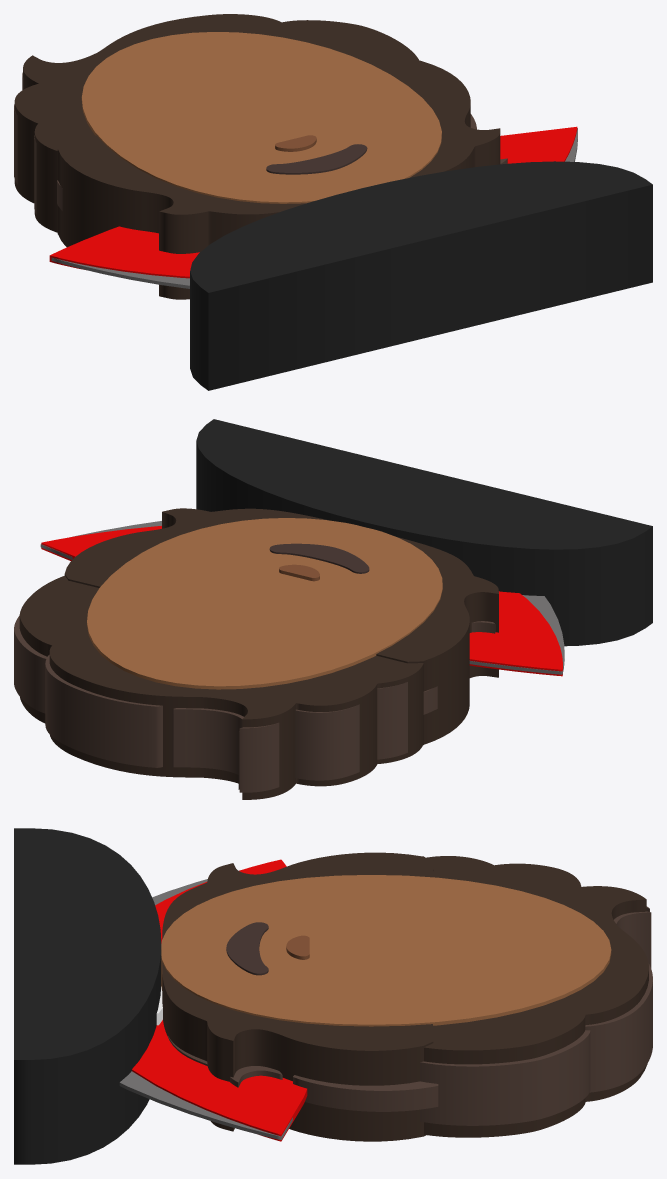
Rendered from emoji_u1f9db_1f3fe.glb.
3 renders of one model, top to bottom at view 1: azimuth 30°, elevation 25°; view 2: azimuth 150°, elevation 25°; view 3: azimuth 270°, elevation 25°, orthographic. The views are drawn at different scales.
Visible parts, largest first — view 1: emoji_u1f9db_1f3fe; view 2: emoji_u1f9db_1f3fe; view 3: emoji_u1f9db_1f3fe.
Boxes of the visible parts, left/top/right/bottom form: emoji_u1f9db_1f3fe: left=14, top=14, right=652, bottom=390; emoji_u1f9db_1f3fe: left=14, top=419, right=652, bottom=799; emoji_u1f9db_1f3fe: left=14, top=828, right=652, bottom=1164.
Size of the model in its own units: 0.0339 by 0.006 by 0.0332.
